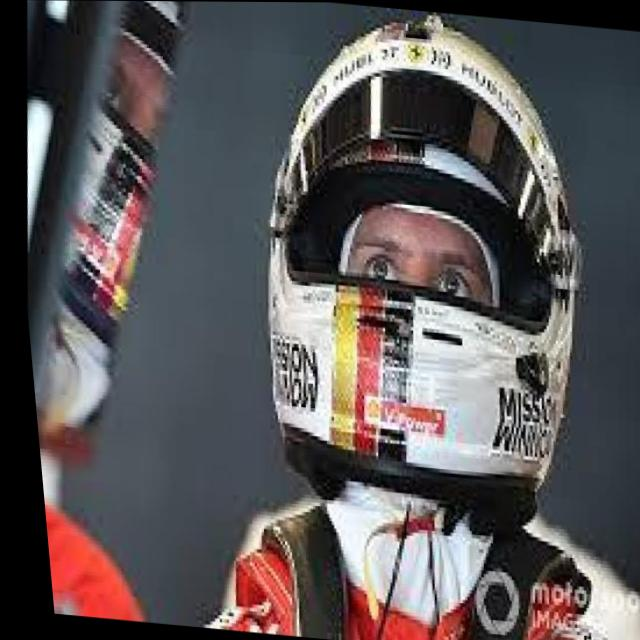helmet: (222, 5, 611, 528)
